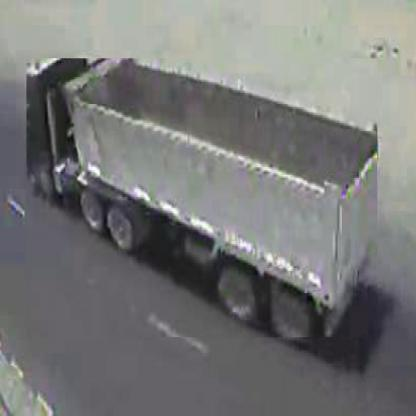truck: (28, 59, 380, 340)
